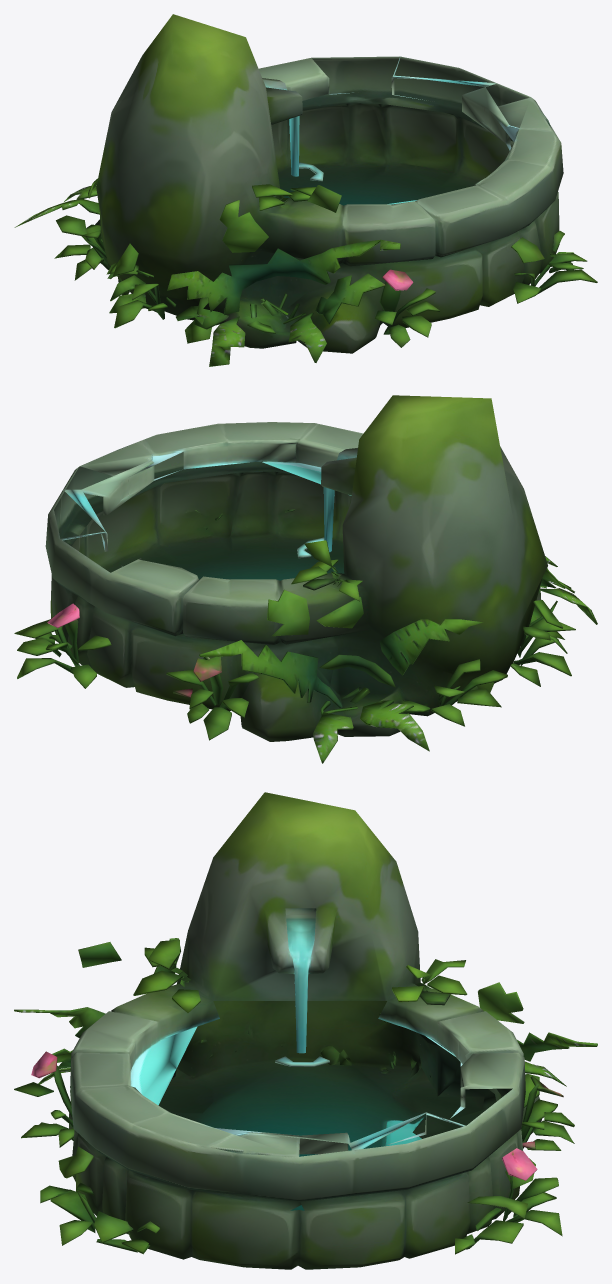
3 renders of one model, top to bottom at view 1: azimuth 30°, elevation 25°; view 2: azimuth 150°, elevation 25°; view 3: azimuth 270°, elevation 25°, orthographic. The views are drawn at different scales.
Visible parts, largest first — view 1: tripo_node_01da319c-a1a9-4bfa-aa56-afed6c1942ca; view 2: tripo_node_01da319c-a1a9-4bfa-aa56-afed6c1942ca; view 3: tripo_node_01da319c-a1a9-4bfa-aa56-afed6c1942ca.
Part boxes in pixels (box(x1,y1,x2,y2)): tripo_node_01da319c-a1a9-4bfa-aa56-afed6c1942ca: box(14, 14, 597, 366); tripo_node_01da319c-a1a9-4bfa-aa56-afed6c1942ca: box(14, 395, 597, 763); tripo_node_01da319c-a1a9-4bfa-aa56-afed6c1942ca: box(14, 792, 597, 1269).
Size of the model in its own units: 0.9883 by 0.5499 by 0.998.
Materials: 1 (1 with a texture image).
